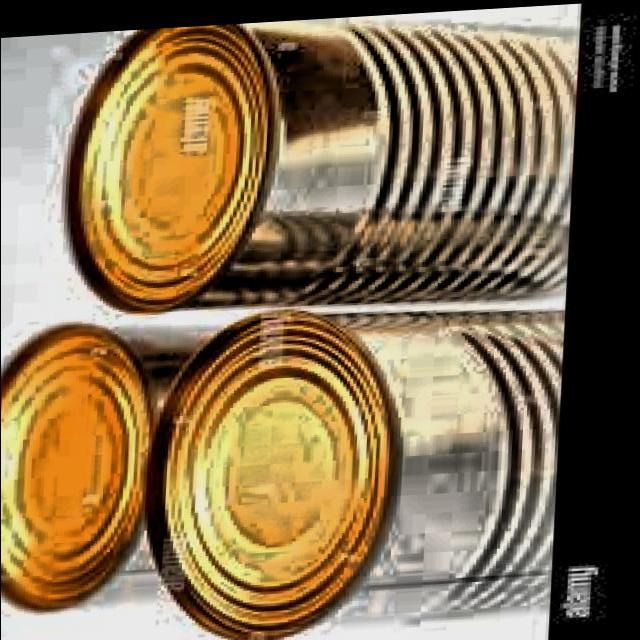Aluminum Can: (50, 3, 582, 327), (138, 289, 572, 640), (0, 308, 244, 620)
